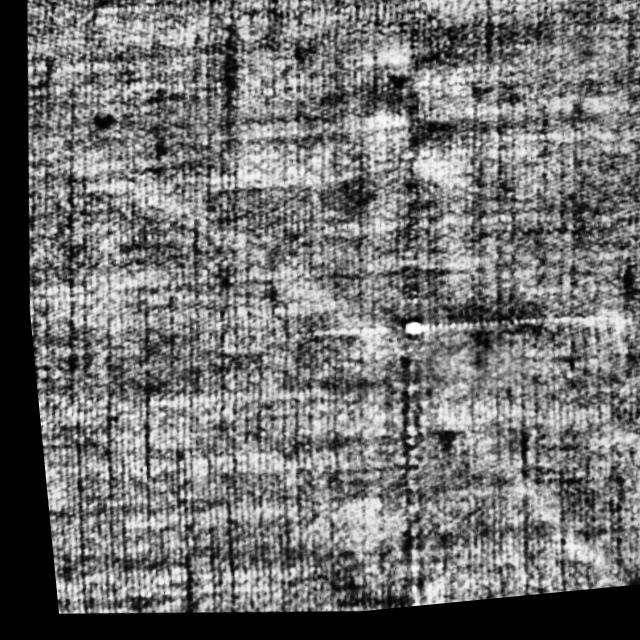Hole: (391, 323, 419, 347)
